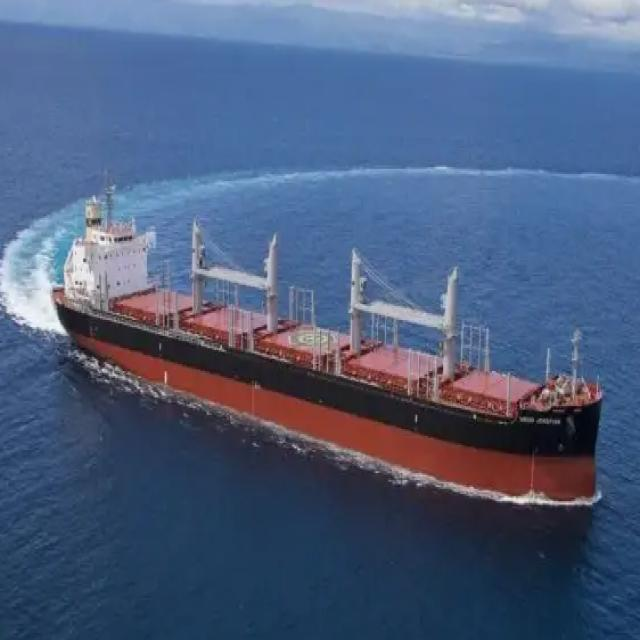cargoship: (54, 155, 610, 541)
